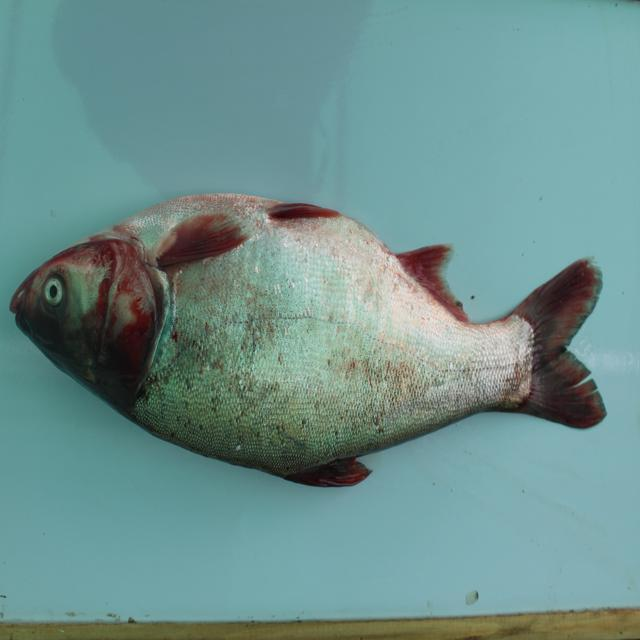SilverCarp: (8, 215, 608, 479)
